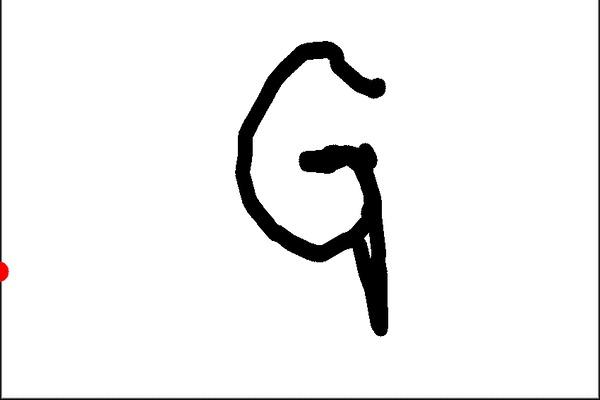G: (227, 37, 409, 341)
